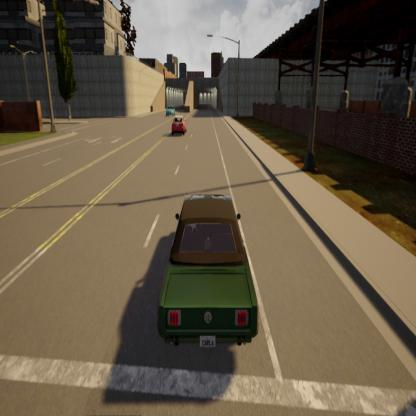Cars: (149, 187, 264, 358), (169, 114, 189, 137), (164, 101, 177, 117)
